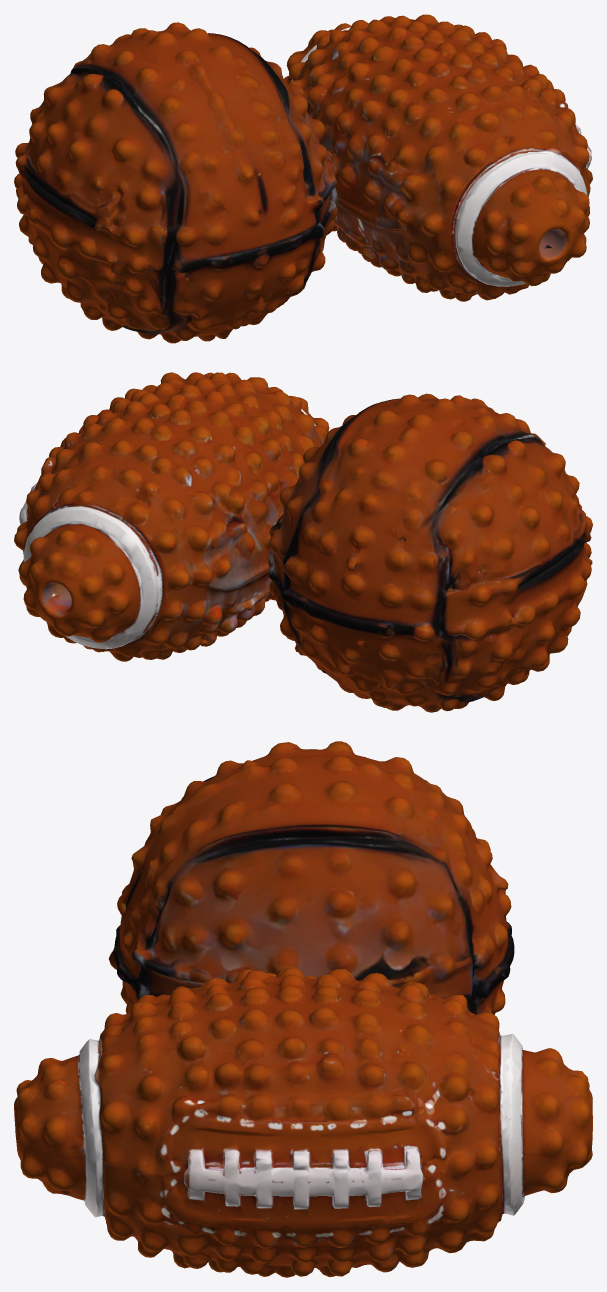
File: producto4.fbx
3 views of the same model, one above another, from view 1: azimuth 30°, elevation 25°; view 2: azimuth 150°, elevation 25°; view 3: azimuth 270°, elevation 25° (orthographic). The views are drawn at different scales.
Parts seen in each view (by area): view 1: tripo_node_9f3f28a6; view 2: tripo_node_9f3f28a6; view 3: tripo_node_9f3f28a6.
Boxes of the visible parts, x1,y1,x2,y2 form: tripo_node_9f3f28a6: [14, 14, 592, 343]; tripo_node_9f3f28a6: [14, 372, 592, 712]; tripo_node_9f3f28a6: [14, 741, 592, 1277].
Bounding box in the file's own units: 1 × 0.5346 × 0.7988.
1 material, 1 textured.
